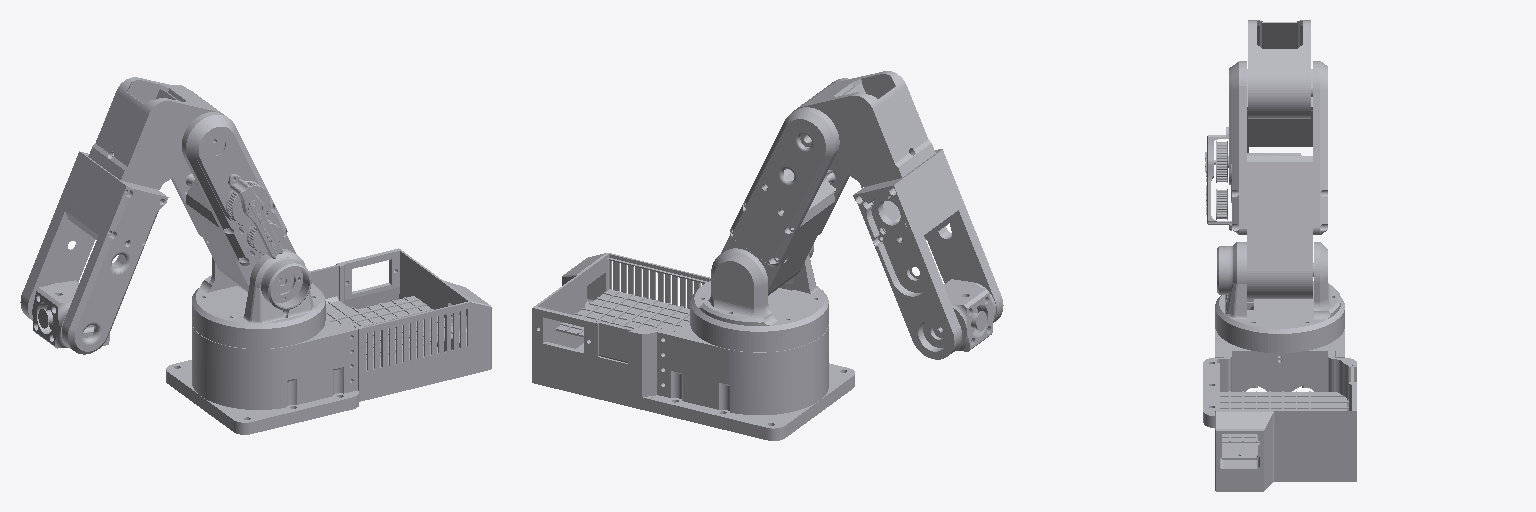
The robot description file, URDF, robot "stppe_zlozenie_nowe":
<?xml version="1.0" ?>
<robot name="stppe_zlozenie_nowe">

<material name="silver_default">
  <color rgba="0.700 0.700 0.700 1.000"/>
</material>

<material name="stal_satynowa">
  <color rgba="0.750 0.750 0.780 1.000"/>
</material>

<material name="dark_gray">
  <color rgba="0.250 0.250 0.250 1.000"/>
</material>
<transmission name="joint_1_tran">
  <type>transmission_interface/SimpleTransmission</type>
  <joint name="joint_1">
    <hardwareInterface>hardware_interface/PositionJointInterface</hardwareInterface>
  </joint>
  <actuator name="joint_1_actr">
    <hardwareInterface>hardware_interface/PositionJointInterface</hardwareInterface>
    <mechanicalReduction>1</mechanicalReduction>
  </actuator>
</transmission>

<transmission name="joint_2_tran">
  <type>transmission_interface/SimpleTransmission</type>
  <joint name="joint_2">
    <hardwareInterface>hardware_interface/PositionJointInterface</hardwareInterface>
  </joint>
  <actuator name="joint_2_actr">
    <hardwareInterface>hardware_interface/PositionJointInterface</hardwareInterface>
    <mechanicalReduction>1</mechanicalReduction>
  </actuator>
</transmission>

<transmission name="joint_3_tran">
  <type>transmission_interface/SimpleTransmission</type>
  <joint name="joint_3">
    <hardwareInterface>hardware_interface/PositionJointInterface</hardwareInterface>
  </joint>
  <actuator name="joint_3_actr">
    <hardwareInterface>hardware_interface/PositionJointInterface</hardwareInterface>
    <mechanicalReduction>1</mechanicalReduction>
  </actuator>
</transmission>

<transmission name="joint_4_tran">
  <type>transmission_interface/SimpleTransmission</type>
  <joint name="joint_4">
    <hardwareInterface>hardware_interface/PositionJointInterface</hardwareInterface>
  </joint>
  <actuator name="joint_4_actr">
    <hardwareInterface>hardware_interface/PositionJointInterface</hardwareInterface>
    <mechanicalReduction>1</mechanicalReduction>
  </actuator>
</transmission>

<transmission name="joint_5_tran">
  <type>transmission_interface/SimpleTransmission</type>
  <joint name="joint_5">
    <hardwareInterface>hardware_interface/PositionJointInterface</hardwareInterface>
  </joint>
  <actuator name="joint_5_actr">
    <hardwareInterface>hardware_interface/PositionJointInterface</hardwareInterface>
    <mechanicalReduction>1</mechanicalReduction>
  </actuator>
</transmission>

<transmission name="joint_6_tran">
  <type>transmission_interface/SimpleTransmission</type>
  <joint name="joint_6">
    <hardwareInterface>hardware_interface/PositionJointInterface</hardwareInterface>
  </joint>
  <actuator name="joint_6_actr">
    <hardwareInterface>hardware_interface/PositionJointInterface</hardwareInterface>
    <mechanicalReduction>1</mechanicalReduction>
  </actuator>
</transmission>

<!-- ======================================================================= -->
<!-- BASE LINK                                                               -->
<!-- ======================================================================= -->
<link name="base_link">
  <inertial>
    <origin xyz="-0.015561 -0.188155 0.033809" rpy="0 0 0"/>
    <mass value="8.4018"/>
    <inertia ixx="0.0245766" iyy="0.0567997" izz="0.07138445" ixy="0.00117371" iyz="-3.651e-05" ixz="0.00186799"/>
  </inertial>
  <visual>
    <origin xyz="0 0 0" rpy="0 0 0"/>
    <geometry>
      <mesh filename="package://stppe_zlozenie_nowe_description/meshes/base_link.stl" scale="0.001 0.001 0.001"/>
    </geometry>
    <material name="stal_satynowa"/>
  </visual>
  <collision>
    <origin xyz="0 0 0" rpy="0 0 0"/>
    <geometry>
      <mesh filename="package://stppe_zlozenie_nowe_description/meshes/base_link.stl" scale="0.001 0.001 0.001"/>
    </geometry>
  </collision>
</link>

<!-- ======================================================================= -->
<!-- JOINT 1 (Base Rotation, Z axis)                                         -->
<!-- ======================================================================= -->
<joint name="joint_1" type="revolute">
  <origin xyz="-0.063538 -0.188851 0.062999" rpy="0 0 0.349066"/>
  <parent link="base_link"/>
  <child link="link_1"/>
  <axis xyz="0 0 1"/>
  <limit lower="-1.570796" upper="1.570796" effort="100" velocity="100"/>
</joint>

<!-- ======================================================================= -->
<!-- LINK 1 (Shoulder Turret)                                                -->
<!-- ======================================================================= -->
<link name="link_1">
  <inertial>
    <origin xyz="-0.031209 -0.093717 0.094619" rpy="0 0 0"/>
    <mass value="3.4747"/>
    <inertia ixx="0.00884839" iyy="0.0082063" izz="0.00700804" ixy="-8.5e-07" iyz="7.02e-06" ixz="1e-06"/>
  </inertial>
  <visual>
    <origin xyz="0.063538 0.188851 -0.062999" rpy="0 0 0"/>
    <geometry>
      <mesh filename="package://stppe_zlozenie_nowe_description/meshes/link_1.stl" scale="0.001 0.001 0.001"/>
    </geometry>
    <material name="stal_satynowa"/>
  </visual>
  <collision>
    <origin xyz="0.063538 0.188851 -0.062999" rpy="0 0 0"/>
    <geometry>
      <mesh filename="package://stppe_zlozenie_nowe_description/meshes/link_1.stl" scale="0.001 0.001 0.001"/>
    </geometry>
  </collision>
</link>

<!-- ======================================================================= -->
<!-- JOINT 2 (Shoulder Pitch, Horizontal axis)                               -->
<!-- ======================================================================= -->
<joint name="joint_2" type="revolute">
  <origin xyz="-0.003249 -0.008852 0.080897" rpy="0 0 0"/>
  <parent link="link_1"/>
  <child link="link_2"/>
  <axis xyz="0.34202 0.939693 0"/>
  <limit lower="-1.134464" upper="2.007129" effort="100" velocity="100"/>
</joint>

<!-- ======================================================================= -->
<!-- LINK 2 (Upper Arm / Przedramie Core)                                    -->
<!-- ======================================================================= -->
<link name="link_2">
  <inertial>
    <origin xyz="-0.028054 0.015475 0.068671" rpy="0 0 0"/>
    <mass value="3.2829"/>
    <inertia ixx="0.01477727" iyy="0.01378756" izz="0.00745895" ixy="-0.00039287" iyz="-0.00149172" ixz="0.00411533"/>
  </inertial>
  <visual>
    <origin xyz="0.066787 0.197703 -0.143896" rpy="0 0 0"/>
    <geometry>
      <mesh filename="package://stppe_zlozenie_nowe_description/meshes/link_2.stl" scale="0.001 0.001 0.001"/>
    </geometry>
    <material name="stal_satynowa"/>
  </visual>
  <collision>
    <origin xyz="0.066787 0.197703 -0.143896" rpy="0 0 0"/>
    <geometry>
      <mesh filename="package://stppe_zlozenie_nowe_description/meshes/link_2.stl" scale="0.001 0.001 0.001"/>
    </geometry>
  </collision>
</link>

<!-- ======================================================================= -->
<!-- JOINT 3 (Elbow Pitch, Horizontal axis at elbow cylinder)                -->
<!-- ======================================================================= -->
<joint name="joint_3" type="revolute">
  <origin xyz="-0.067852 0.043301 0.168419" rpy="0 0 0"/>
  <parent link="link_2"/>
  <child link="link_3"/>
  <axis xyz="0.34202 0.939693 0"/>
  <limit lower="-0.610865" upper="2.967060" effort="100" velocity="100"/>
</joint>

<!-- ======================================================================= -->
<!-- LINK 3 (Forearm Elbow Member / J3_main)                                 -->
<!-- ======================================================================= -->
<link name="link_3">
  <inertial>
    <origin xyz="-0.031284 0.003678 -0.001915" rpy="0 0 0"/>
    <mass value="1.4185"/>
    <inertia ixx="0.00162661" iyy="0.00240862" izz="0.00254871" ixy="0.00032212" iyz="6.956e-05" ixz="-0.0001549"/>
  </inertial>
  <visual>
    <origin xyz="0.134639 0.154402 -0.312315" rpy="0 0 0"/>
    <geometry>
      <mesh filename="package://stppe_zlozenie_nowe_description/meshes/link_3.stl" scale="0.001 0.001 0.001"/>
    </geometry>
    <material name="stal_satynowa"/>
  </visual>
  <collision>
    <origin xyz="0.134639 0.154402 -0.312315" rpy="0 0 0"/>
    <geometry>
      <mesh filename="package://stppe_zlozenie_nowe_description/meshes/link_3.stl" scale="0.001 0.001 0.001"/>
    </geometry>
  </collision>
</link>

<!-- ======================================================================= -->
<!-- JOINT 4 (Forearm Roll Axis)                                             -->
<!-- ======================================================================= -->
<joint name="joint_4" type="revolute">
  <origin xyz="-0.069455 0.016719 -0.023329" rpy="0 0 0"/>
  <parent link="link_3"/>
  <child link="link_4"/>
  <axis xyz="0.3971 -0.1445 0.9063"/>
  <limit lower="-1.570796" upper="1.570796" effort="100" velocity="100"/>
</joint>

<!-- ======================================================================= -->
<!-- LINK 4 (Forearm Roll Body / J4_main)                                    -->
<!-- ======================================================================= -->
<link name="link_4">
  <inertial>
    <origin xyz="-0.037542 0.00867 -0.077879" rpy="0 0 0"/>
    <mass value="2.2154"/>
    <inertia ixx="0.00732563" iyy="0.00632083" izz="0.00425711" ixy="-0.00046478" iyz="0.00060986" ixz="-0.00186362"/>
  </inertial>
  <visual>
    <origin xyz="0.204094 0.137683 -0.288986" rpy="0 0 0"/>
    <geometry>
      <mesh filename="package://stppe_zlozenie_nowe_description/meshes/link_4.stl" scale="0.001 0.001 0.001"/>
    </geometry>
    <material name="stal_satynowa"/>
  </visual>
  <collision>
    <origin xyz="0.204094 0.137683 -0.288986" rpy="0 0 0"/>
    <geometry>
      <mesh filename="package://stppe_zlozenie_nowe_description/meshes/link_4.stl" scale="0.001 0.001 0.001"/>
    </geometry>
  </collision>
</link>

<!-- ======================================================================= -->
<!-- JOINT 5 (Wrist Pitch, Horizontal axis at wrist cylinder)                -->
<!-- ======================================================================= -->
<joint name="joint_5" type="revolute">
  <origin xyz="-0.056864 0.055594 -0.150646" rpy="0 0 0"/>
  <parent link="link_4"/>
  <child link="link_5"/>
  <axis xyz="0.34202 0.939693 0"/>
  <limit lower="-2.094395" upper="2.094395" effort="100" velocity="100"/>
</joint>

<!-- ======================================================================= -->
<!-- LINK 5 (Wrist Body / J6_main)                                           -->
<!-- ======================================================================= -->
<link name="link_5">
  <inertial>
    <origin xyz="-0.008304 -0.032736 -0.000453" rpy="0 0 0"/>
    <mass value="0.9829"/>
    <inertia ixx="0.00050791" iyy="0.00040926" izz="0.00051564" ixy="-3.943e-05" iyz="-2.64e-06" ixz="2.14e-06"/>
  </inertial>
  <visual>
    <origin xyz="0.260958 0.082089 -0.138340" rpy="0 0 0"/>
    <geometry>
      <mesh filename="package://stppe_zlozenie_nowe_description/meshes/link_5.stl" scale="0.001 0.001 0.001"/>
    </geometry>
    <material name="stal_satynowa"/>
  </visual>
  <collision>
    <origin xyz="0.260958 0.082089 -0.138340" rpy="0 0 0"/>
    <geometry>
      <mesh filename="package://stppe_zlozenie_nowe_description/meshes/link_5.stl" scale="0.001 0.001 0.001"/>
    </geometry>
  </collision>
</link>

<!-- ======================================================================= -->
<!-- JOINT 6 (Tool Flange Roll, Coaxial with output spindle)                 -->
<!-- ======================================================================= -->
<joint name="joint_6" type="continuous">
  <origin xyz="-0.026461 -0.024525 0.001385" rpy="0 0 0"/>
  <parent link="link_5"/>
  <child link="link_6"/>
  <axis xyz="0.9361 -0.3407 -0.0872"/>
</joint>

<!-- ======================================================================= -->
<!-- LINK 6 (Tool Flange / J4_main_1)                                        -->
<!-- ======================================================================= -->
<link name="link_6">
  <inertial>
    <origin xyz="-0.000725 0.000167 -0.000012" rpy="0 0 0"/>
    <mass value="0.0255"/>
    <inertia ixx="9.1e-07" iyy="1.27e-06" izz="1.33e-06" ixy="1.7e-07" iyz="-1e-08" ixz="6e-08"/>
  </inertial>
  <visual>
    <origin xyz="0.287419 0.106614 -0.139725" rpy="0 0 0"/>
    <geometry>
      <mesh filename="package://stppe_zlozenie_nowe_description/meshes/link_6.stl" scale="0.001 0.001 0.001"/>
    </geometry>
    <material name="stal_satynowa"/>
  </visual>
  <collision>
    <origin xyz="0.287419 0.106614 -0.139725" rpy="0 0 0"/>
    <geometry>
      <mesh filename="package://stppe_zlozenie_nowe_description/meshes/link_6.stl" scale="0.001 0.001 0.001"/>
    </geometry>
  </collision>
</link>

</robot>

--- What the picture shows (computed from the rendered views, not written in the file) ---
Views: 3 orthographic renders of the robot side by side, from view 1: azimuth 30°, elevation 25°; view 2: azimuth 150°, elevation 25°; view 3: azimuth 270°, elevation 25°.
Model stppe_zlozenie_nowe with 7 links and 6 joints (5 revolute, 1 continuous), rooted at base_link, posed all joints at 0.
Visible links, largest first — view 1: base_link, link_4, link_2, link_1, link_3, link_5; view 2: base_link, link_4, link_2, link_1, link_3, link_5; view 3: base_link, link_2, link_1, link_3, link_4.
Link boxes in pixels (x1,y1,x2,y2): base_link: (166,248,491,434); link_4: (20,151,168,354); link_2: (171,85,295,298); link_1: (192,249,325,348); link_3: (88,77,224,189); link_5: (32,280,109,348); base_link: (532,253,854,440); link_4: (853,149,1003,359); link_2: (721,78,849,295); link_1: (690,244,828,351); link_3: (792,71,935,187); link_5: (936,279,995,351); base_link: (1203,329,1356,491); link_2: (1205,61,1327,298); link_1: (1215,242,1344,355); link_3: (1248,20,1312,118); link_4: (1231,69,1312,202).
Size in the robot's own frame: 0.4805 by 0.1581 by 0.3663 metres.
7 mesh visuals loaded from 7 distinct referenced files (7 binary STL).
